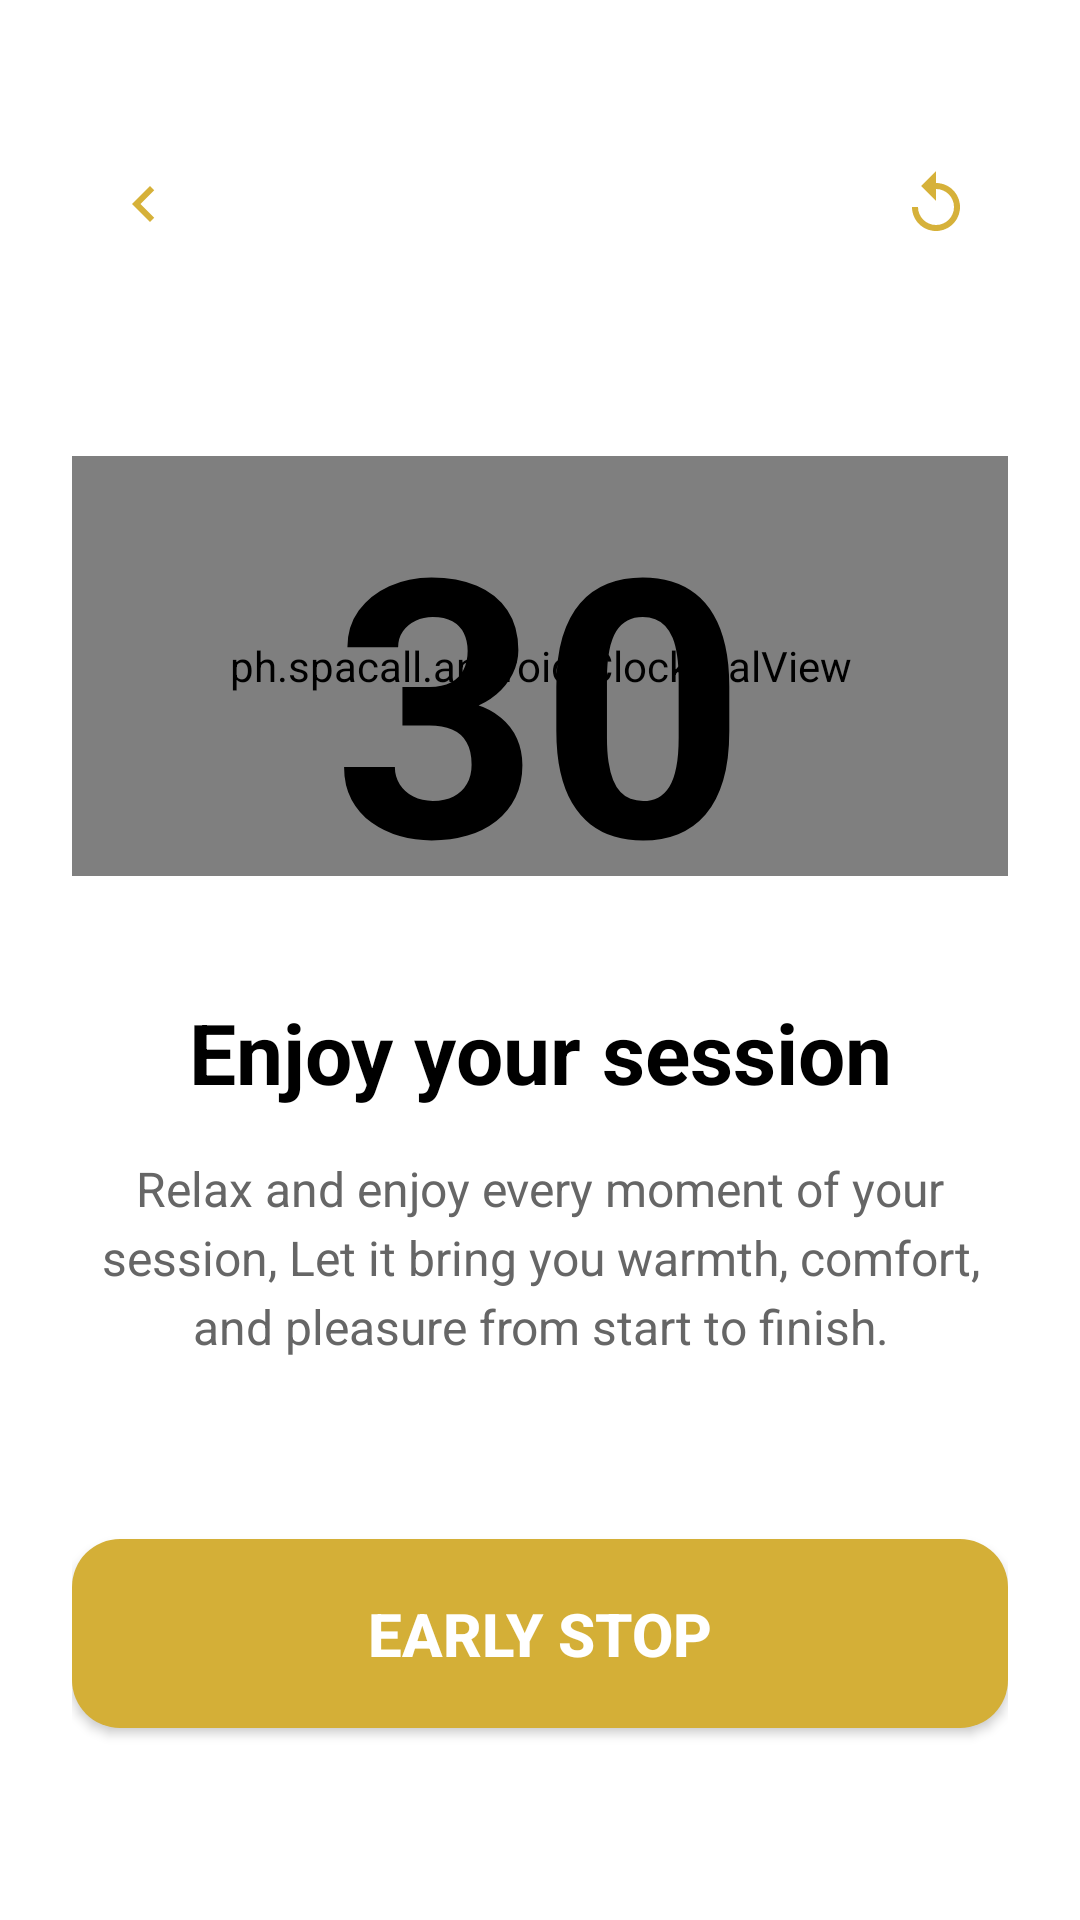

Icon click points for this 1080w x 1920h phone screenshot, format (x=x, y=y):
Back: (x=143, y=204)
Reset: (x=936, y=201)
